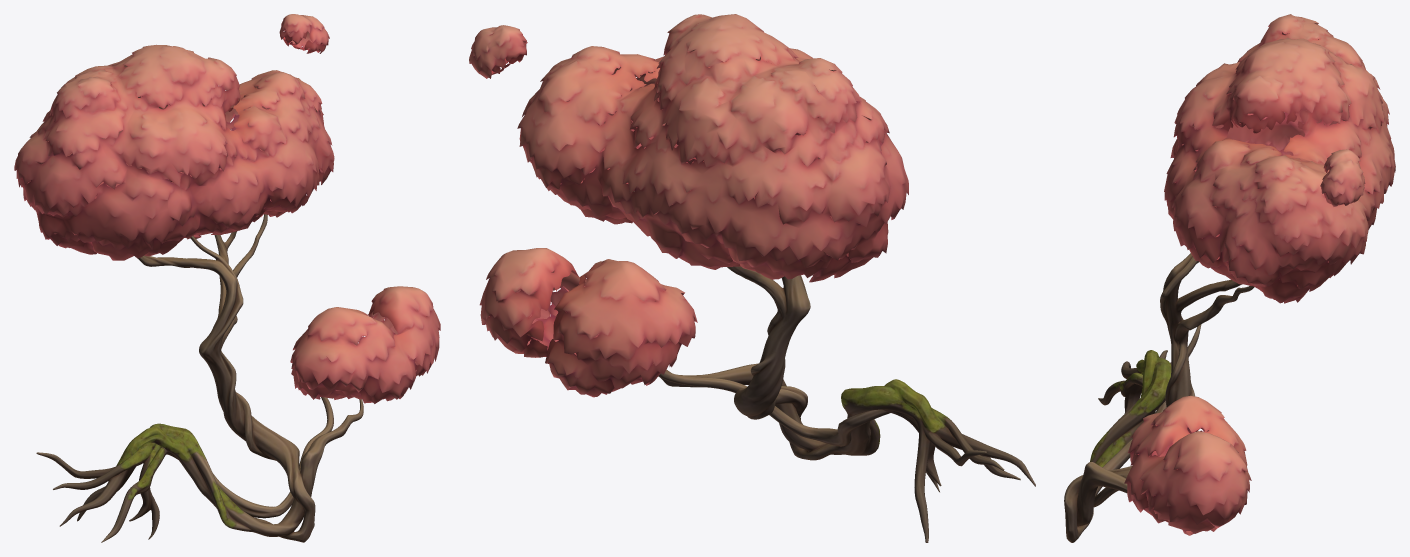
The model's file is sky_tree_02a.glb.
3 views of the same model, side by side, from view 1: azimuth 30°, elevation 25°; view 2: azimuth 150°, elevation 25°; view 3: azimuth 270°, elevation 25° (orthographic). The views are drawn at different scales.
Visible parts, largest first — view 1: tree_02a; view 2: tree_02a; view 3: tree_02a.
Boxes of the visible parts, <box> form: tree_02a: <box>14,14,440,542</box>; tree_02a: <box>469,14,1035,542</box>; tree_02a: <box>1064,14,1395,542</box>.
Size of the model in its own units: 12.23 by 12.24 by 7.72.
Materials: 2 (2 with a texture image).
